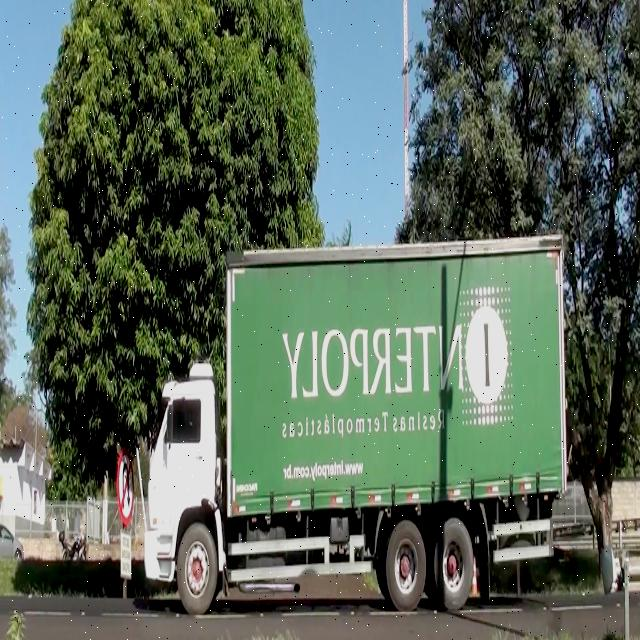-axle: (386, 519, 426, 615), (177, 523, 219, 613), (434, 517, 473, 613)
